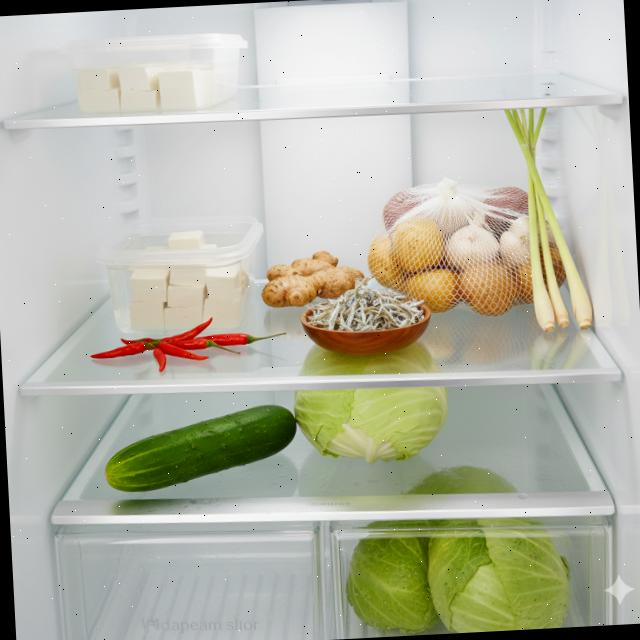anchovies: (304, 272, 426, 336)
cabbage: (344, 514, 574, 639), (288, 336, 452, 466)
chili: (90, 313, 290, 377)
cucumber: (101, 403, 300, 495)
ginger: (260, 248, 367, 309)
lemongrass: (503, 104, 594, 336)
potato: (366, 211, 516, 322)
tofu: (125, 226, 248, 337), (76, 57, 218, 116)
